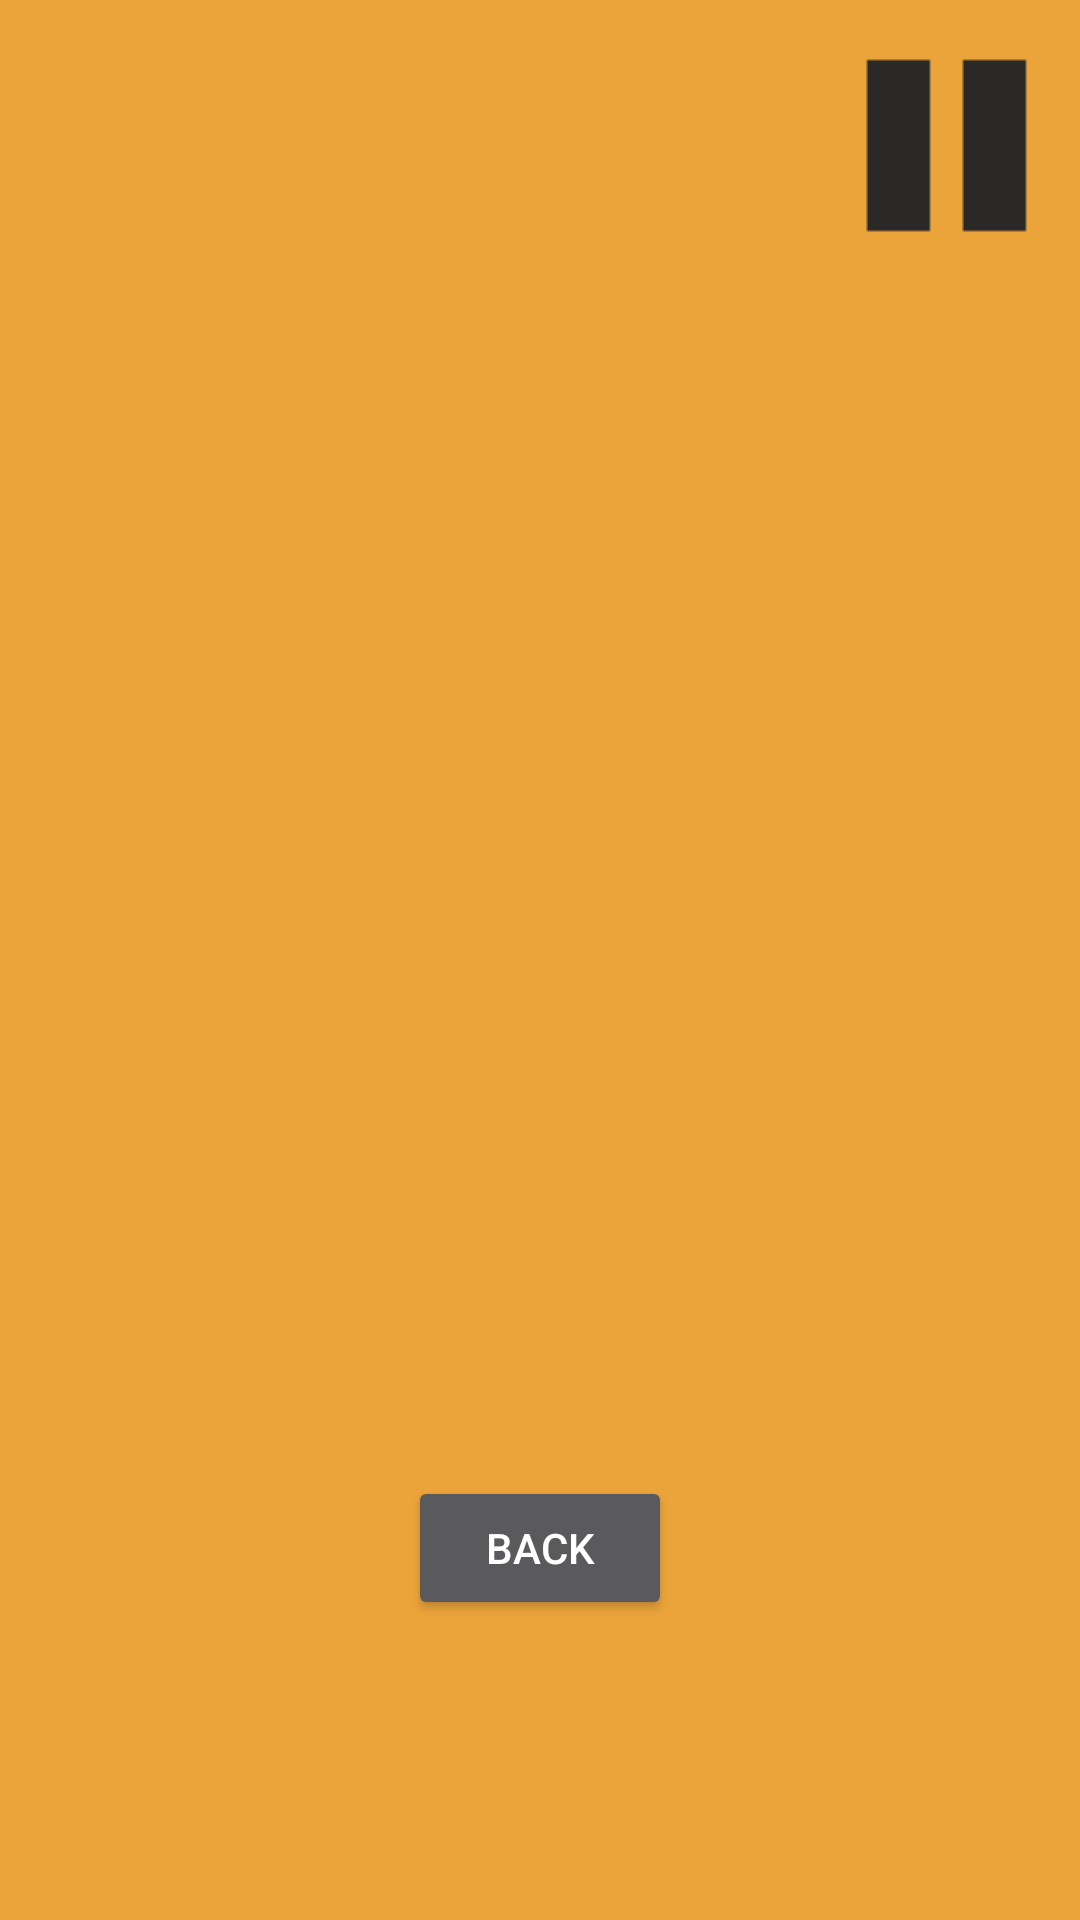

Screen size 1080px x 1920px. Icon name, then its box in pixels as [x1=x1, y1=y1, x2=x2, y2=y2]:
pause: [x1=866, y1=59, x2=1027, y2=232]
